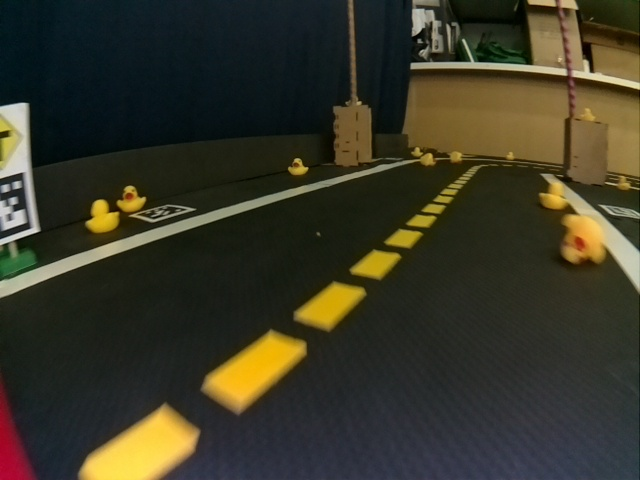Duckie: (560, 215, 601, 264), (87, 201, 117, 231), (118, 186, 144, 209), (542, 183, 566, 207), (289, 158, 305, 175), (617, 177, 628, 190), (581, 108, 592, 120), (424, 155, 435, 165), (506, 151, 515, 160), (450, 152, 460, 160), (412, 147, 420, 156)
Intersection sign: (0, 107, 27, 169)
QR code: (0, 173, 33, 240), (134, 204, 195, 222), (602, 205, 639, 218)
